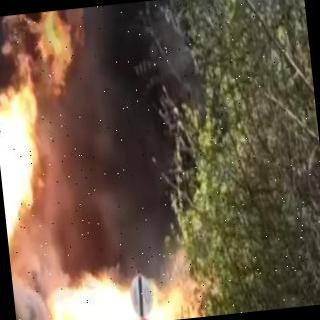smoke: (41, 46, 201, 274), (8, 249, 49, 320)
